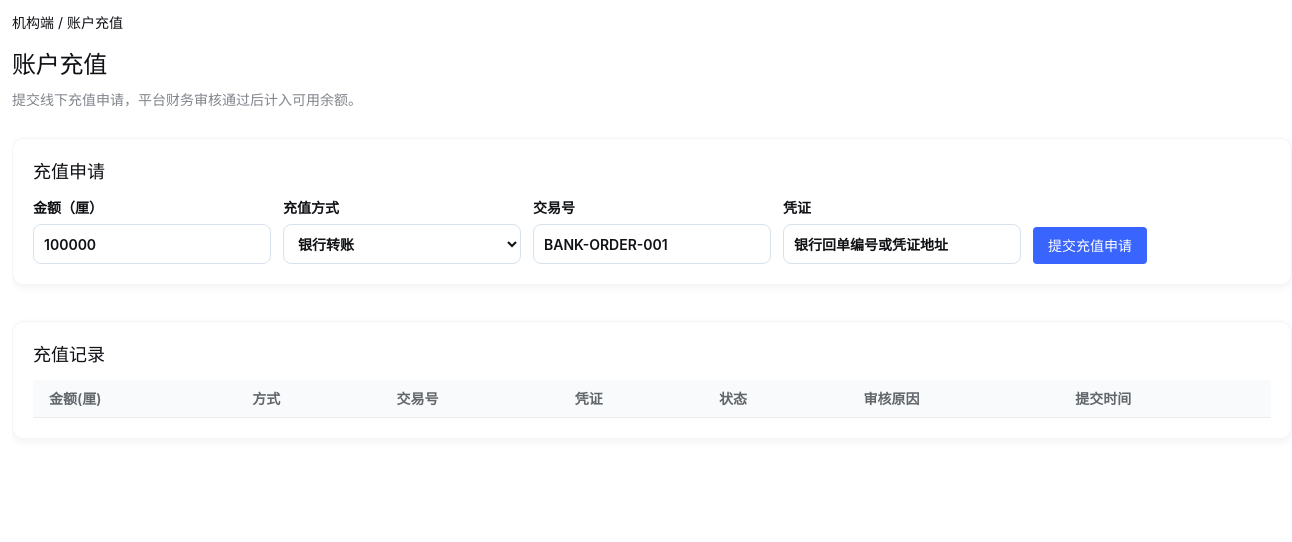
Scenario: Phase 36 tenant recharge operations UI › submits amount method transaction evidence and shows processing state
This screenshot has width=1292, height=542.
Expected: the element with test id "tenant-recharge-operations-recharge-form" is shown, [12,138,1291,285]
Replace the text in the number field with test id "tenant-recharge-operations-recharge-amount" with "200000" at (152, 244), box [33,224,271,264]
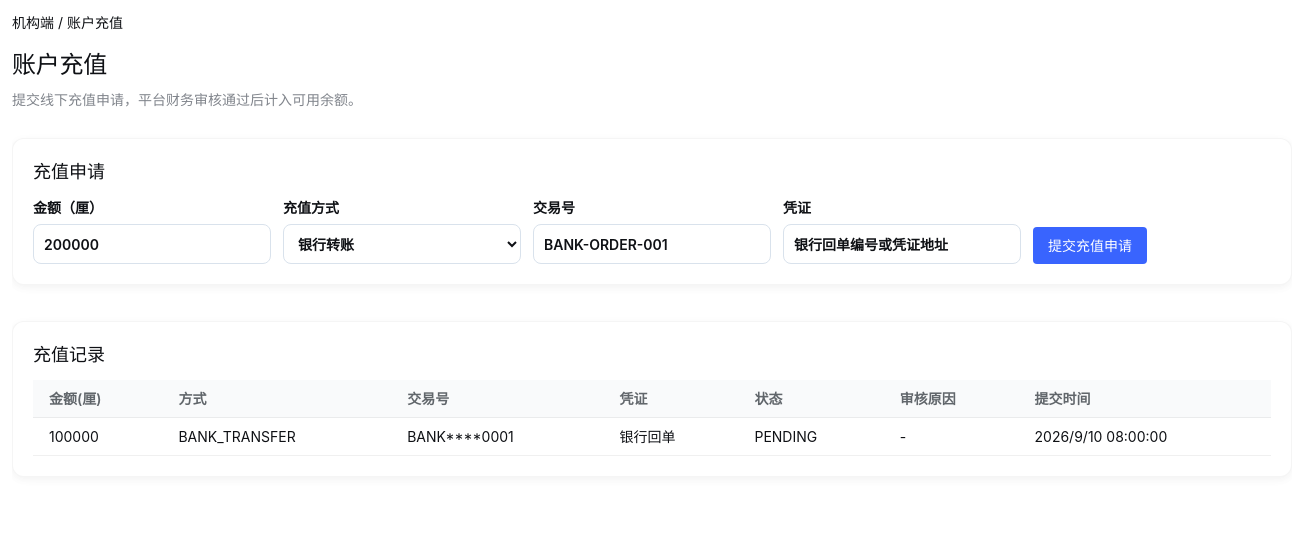
Select "支付宝" in the dropdown with test id "tenant-recharge-operations-recharge-method" at (402, 244), box [283,224,521,264]
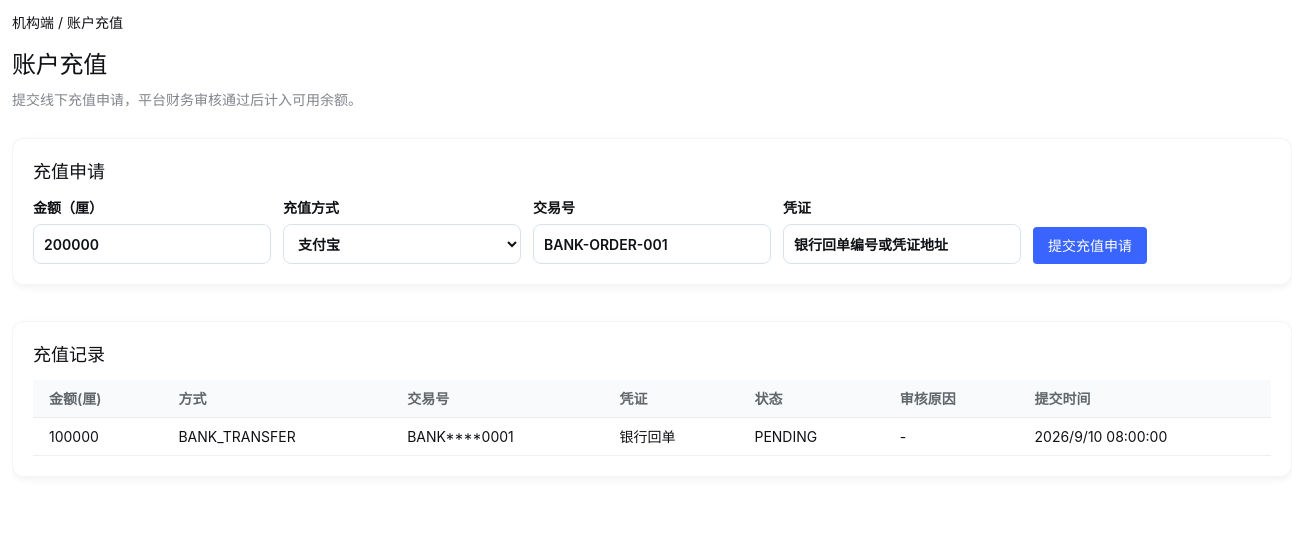
Replace the text in the field with test id "tenant-recharge-operations-recharge-transaction" with "ALI-RECHARGE-0002" at (652, 244), box [533,224,771,264]
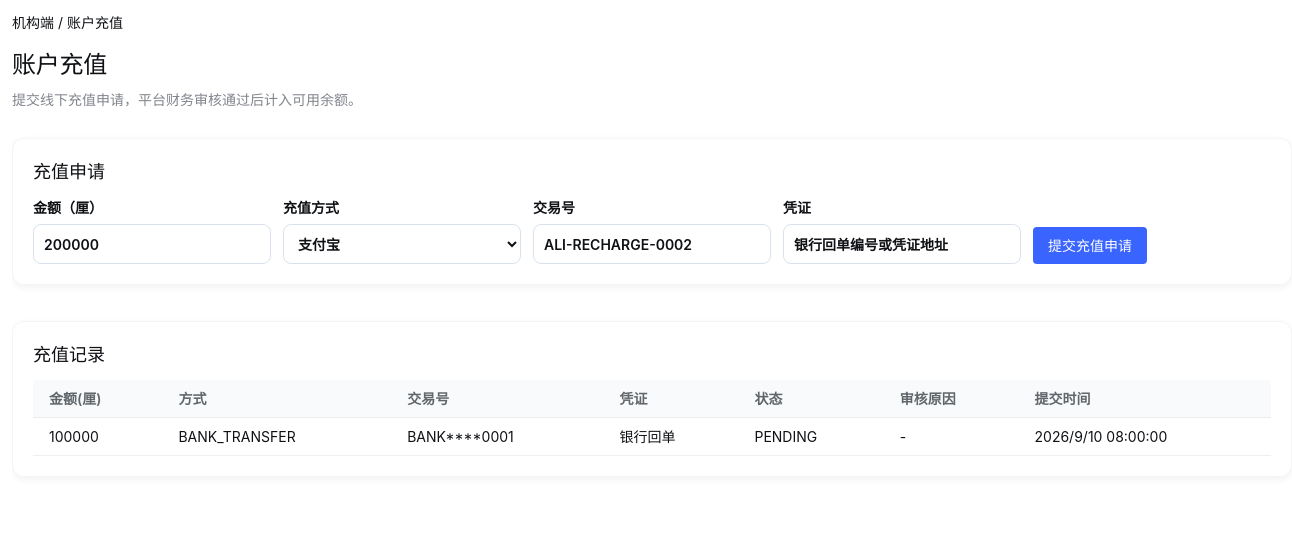
Replace the text in the field with test id "tenant-recharge-operations-recharge-evidence" with "支付宝凭证" at (902, 244), box [783,224,1021,264]
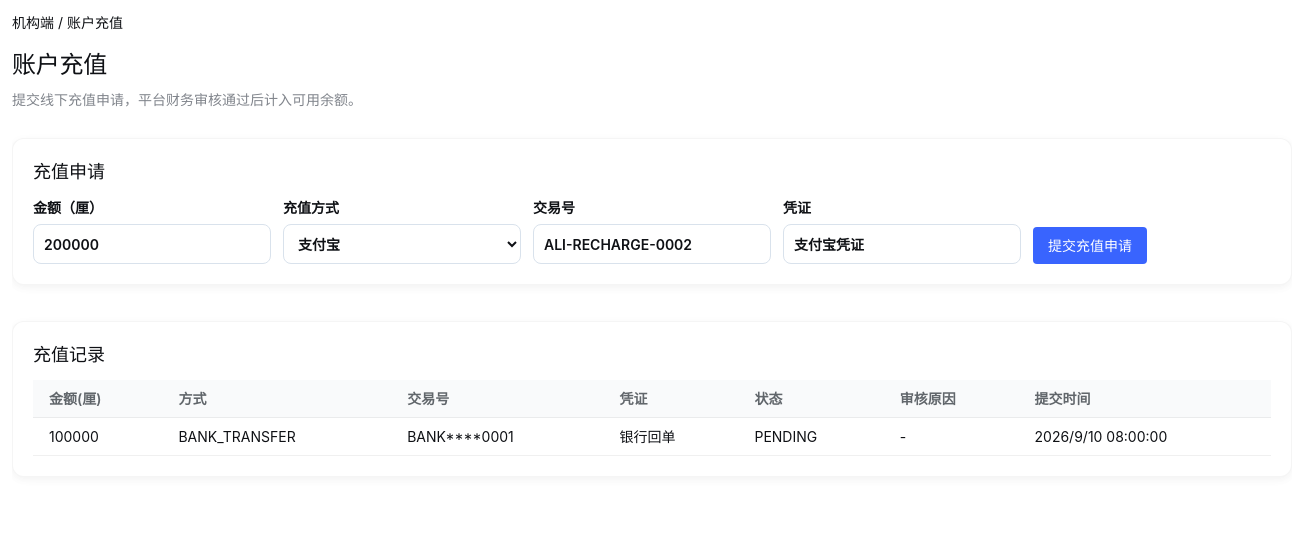
Click the button with test id "tenant-recharge-operations-recharge-submit" at (1090, 246), box [1033,227,1147,264]
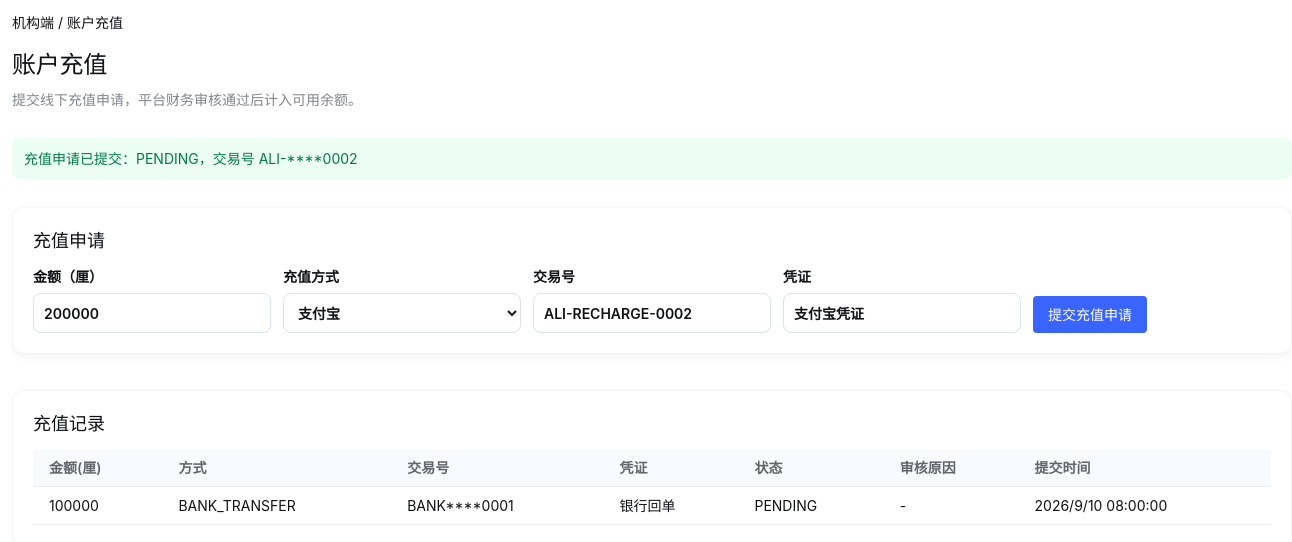
Expected: the cell with test id "tenant-recharge-operations-recharge-state" reads "PENDING", [754,497,817,514]
Expected: the message with test id "tenant-recharge-operations-recharge-message" shows "PENDING", [24,150,358,167]
